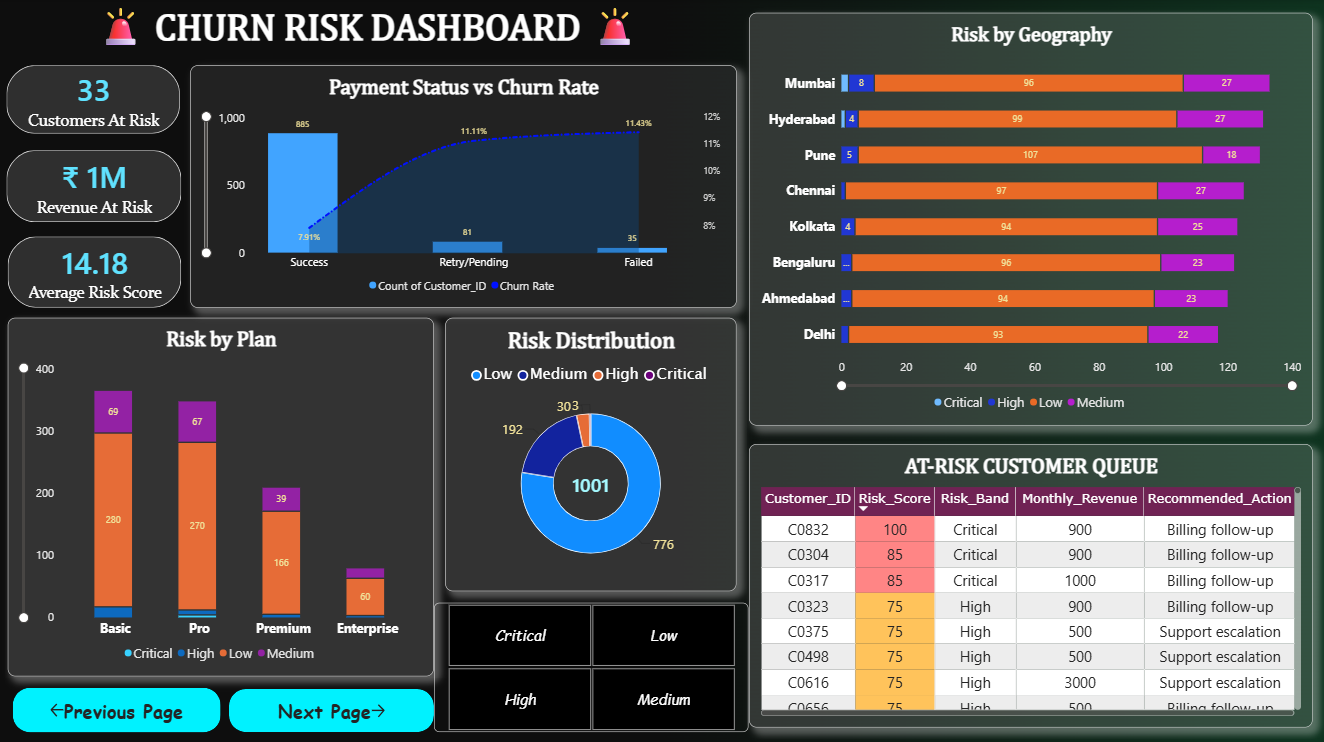

Layout of this report page (visuals, bound fields, positions):
{"tool":"powerbi","page":{"name":"Churn Risk","canvas":[1920,1080],"ordinal":2},"visuals":[{"type":"donutChart","title":"Risk Distribution","fields":{"Category":["Intervention_Data.Risk_Band"],"Y":["Count(Intervention_Data.Customer_ID)"]},"box":[646,461.5,421.7,396.3],"z":0},{"type":"tableEx","title":"AT-RISK CUSTOMER QUEUE ","fields":{"Values":["Intervention_Data.Customer_ID","Intervention_Data.Risk_Score","Intervention_Data.Risk_Band","Subscription_Data.Monthly_Revenue_INR","Intervention_Data.Recommended_Action"]},"box":[1085.8,644.2,816.2,410.8],"z":1000},{"type":"columnChart","title":"Risk by Plan","fields":{"Category":["Subscription_Data.Plan"],"Series":["Intervention_Data.Risk_Band"],"Y":["CountNonNull(Intervention_Data.Customer_ID)"]},"box":[12.7,461.5,617.1,519.4],"z":2000},{"type":"shape","title":"🚨 CHURN RISK DASHBOARD 🚨","box":[0,0,1067.7,67],"z":3000},{"type":"barChart","title":"Risk by Geography","fields":{"Category":["Subscription_Data.Geography"],"Series":["Intervention_Data.Risk_Band"],"Y":["CountNonNull(Intervention_Data.Customer_ID)"]},"box":[1086.2,20.1,816.4,597.8],"z":4000},{"type":"cardVisual","fields":{"Data":["Intervention_Data.High Critical Risk Customers"]},"box":[10.9,95.9,251.5,99.5],"z":5000},{"type":"cardVisual","fields":{"Data":["Intervention_Data.Revenue At Risk"]},"box":[10.9,219,253.4,105],"z":6000},{"type":"cardVisual","fields":{"Data":["Intervention_Data.Average Risk Score"]},"box":[12.7,343.8,251.5,103.2],"z":7000},{"type":"slicer","title":"Plan","fields":{"Values":["Intervention_Data.Risk_Band"]},"box":[629.8,874.1,455,187.4],"z":8000},{"type":"actionButton","box":[20.1,997,301.1,64.7],"z":9000},{"type":"actionButton","box":[332.3,999.3,296.7,62.5],"z":10000},{"type":"lineClusteredColumnComboChart","title":"Payment Status vs Churn Rate","fields":{"Category":["Payment_Data.Payment_Status"],"Y":["Count(Intervention_Data.Customer_ID)"],"Y2":["Subscription_Data.Churn Rate"]},"box":[276.9,95.9,790.8,351.1],"z":11000}]}

Visuals, with their boxes in screenshot pixels (x1, y1, x2, y2), scaled from the page's 1920x1080 canvas onto the 1324x742 screenshot:
"Risk Distribution" donutChart: bbox=(445, 317, 736, 589)
"AT-RISK CUSTOMER QUEUE " tableEx: bbox=(749, 443, 1312, 725)
"Risk by Plan" columnChart: bbox=(9, 317, 434, 674)
"🚨 CHURN RISK DASHBOARD 🚨" shape: bbox=(0, 0, 736, 46)
"Risk by Geography" barChart: bbox=(749, 14, 1312, 425)
cardVisual - Intervention_Data.High Critical Risk Customers: bbox=(8, 66, 181, 134)
cardVisual - Intervention_Data.Revenue At Risk: bbox=(8, 150, 182, 223)
cardVisual - Intervention_Data.Average Risk Score: bbox=(9, 236, 182, 307)
"Plan" slicer: bbox=(434, 601, 748, 729)
actionButton: bbox=(14, 685, 221, 729)
actionButton: bbox=(229, 687, 434, 729)
"Payment Status vs Churn Rate" lineClusteredColumnComboChart: bbox=(191, 66, 736, 307)
